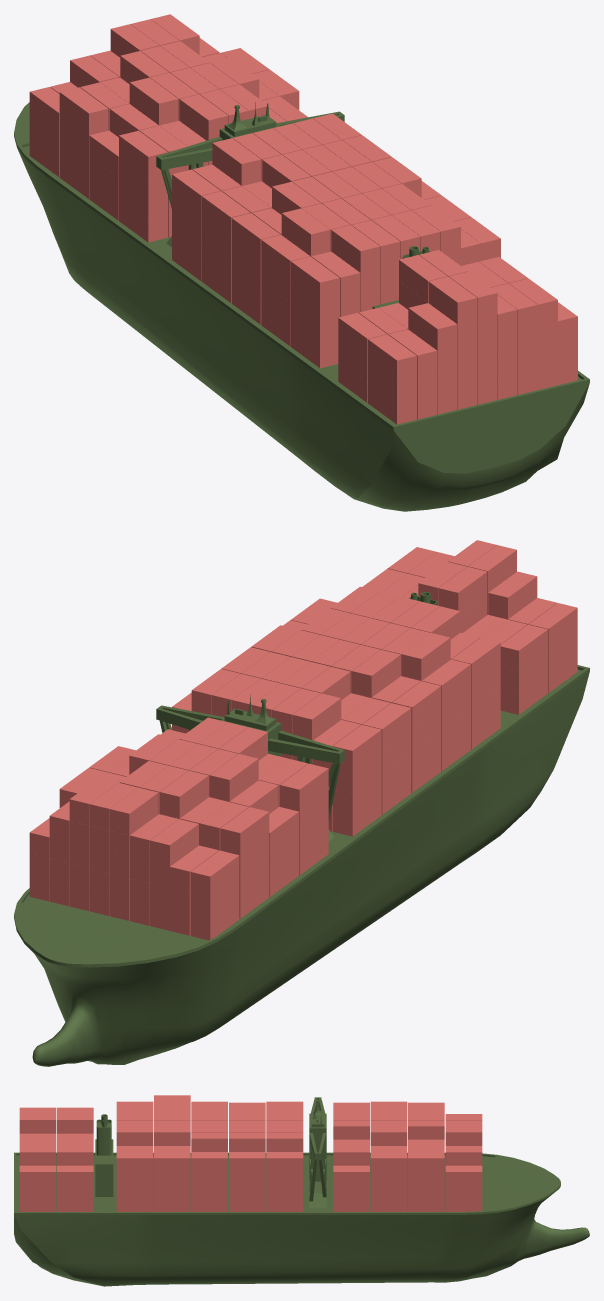
Rendered from uploads_files_3061982_ship.fbx.
3 renders of one model, top to bottom at view 1: azimuth 30°, elevation 25°; view 2: azimuth 150°, elevation 25°; view 3: azimuth 270°, elevation 25°, orthographic. The views are drawn at different scales.
Visible parts, largest first — view 1: Ship; view 2: Ship; view 3: Ship.
Part boxes in pixels (left/top/right/bottom): Ship: left=14, top=14, right=589, bottom=511; Ship: left=14, top=540, right=589, bottom=1066; Ship: left=14, top=1095, right=589, bottom=1286.
Bounding box in the file's own units: 200 × 275 × 806.
